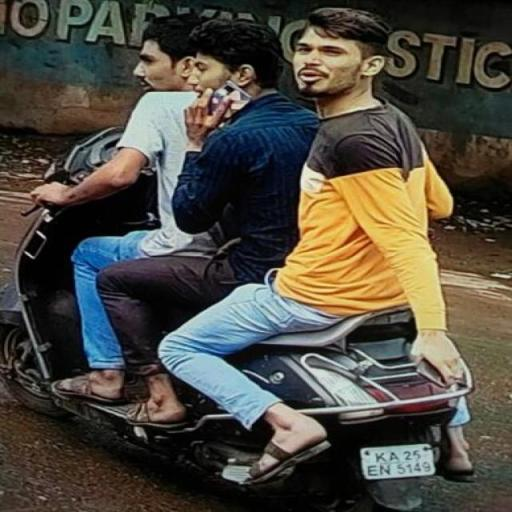tripple riding: (28, 7, 476, 253)
